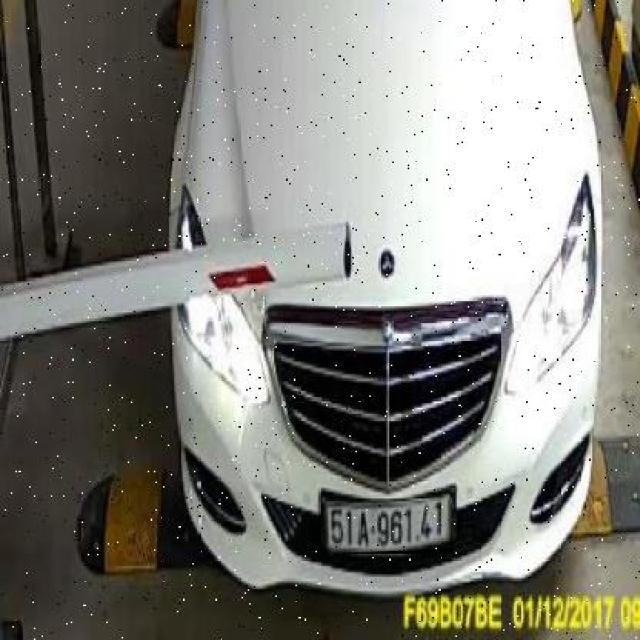number_plate: (322, 498, 452, 554)
